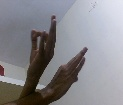hand: (39, 46, 89, 102), (26, 14, 58, 85)
